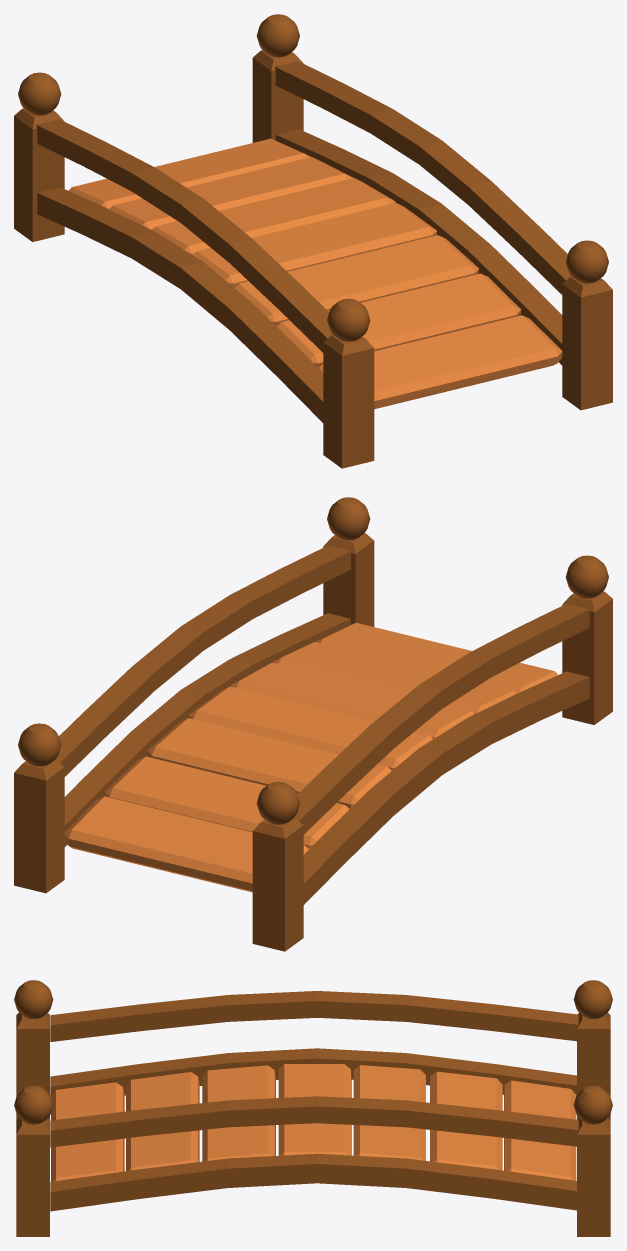
Rendered from Bridge.fbx.
The picture shows the model from 3 angles, top to bottom: view 1: azimuth 30°, elevation 25°; view 2: azimuth 150°, elevation 25°; view 3: azimuth 270°, elevation 25°; orthographic projection. The views are drawn at different scales.
Parts seen in each view (by area): view 1: Cube.001, Cube.004, Cube.002, Cube.010, Cube.008, Cube.009, Cube.007, Cube.006, Cube.005, Cube.003; view 2: Cube.001, Cube.004, Cube.002, Cube.003, Cube.006, Cube.005, Cube.007, Cube.008, Cube.009, Cube.010; view 3: Cube.004, Cube.002, Cube.001, Cube.009, Cube.007, Cube.010, Cube.008, Cube.005, Cube.003, Cube.006.
Boxes of the visible parts, left/top/right/bottom form: Cube.001: left=14, top=14, right=612, bottom=468; Cube.004: left=36, top=61, right=571, bottom=352; Cube.002: left=37, top=129, right=562, bottom=422; Cube.010: left=318, top=315, right=562, bottom=409; Cube.008: left=234, top=235, right=478, bottom=325; Cube.009: left=276, top=273, right=521, bottom=366; Cube.007: left=193, top=202, right=436, bottom=286; Cube.006: left=152, top=178, right=395, bottom=254; Cube.005: left=109, top=157, right=352, bottom=229; Cube.003: left=68, top=138, right=310, bottom=208; Cube.001: left=14, top=497, right=612, bottom=951; Cube.004: left=55, top=545, right=589, bottom=834; Cube.002: left=64, top=613, right=589, bottom=904; Cube.003: left=64, top=796, right=308, bottom=892; Cube.006: left=147, top=718, right=391, bottom=808; Cube.005: left=104, top=756, right=349, bottom=848; Cube.007: left=188, top=686, right=432, bottom=770; Cube.008: left=230, top=662, right=474, bottom=738; Cube.009: left=273, top=642, right=516, bottom=714; Cube.010: left=316, top=622, right=557, bottom=693; Cube.004: left=50, top=991, right=578, bottom=1147; Cube.002: left=50, top=1048, right=576, bottom=1211; Cube.001: left=14, top=980, right=612, bottom=1236; Cube.009: left=126, top=1072, right=199, bottom=1171; Cube.007: left=278, top=1064, right=351, bottom=1155; Cube.010: left=51, top=1082, right=124, bottom=1181; Cube.008: left=202, top=1065, right=275, bottom=1161; Cube.005: left=430, top=1071, right=502, bottom=1170; Cube.003: left=504, top=1080, right=576, bottom=1180; Cube.006: left=353, top=1065, right=425, bottom=1160.
Size of the model in its own units: 3820 by 2076 by 7918.
